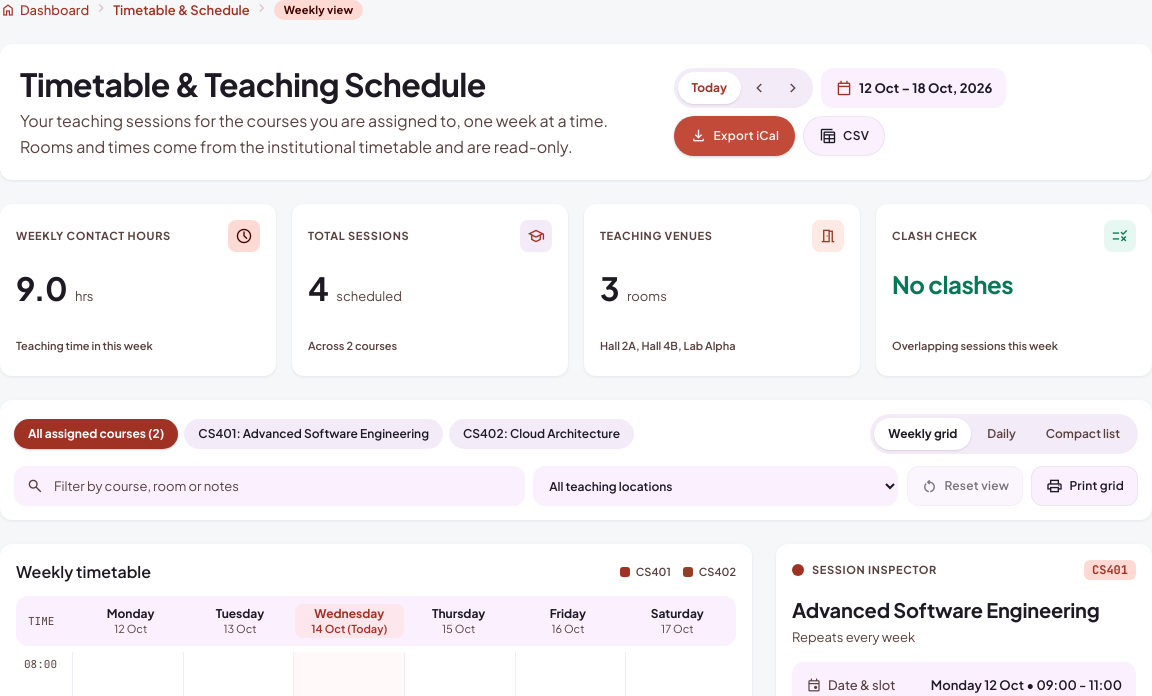
Test: timetable › filters by course, room and search, and resets
Click the button "CS402: Cloud Architecture" at (542, 434), box [449, 419, 634, 449]
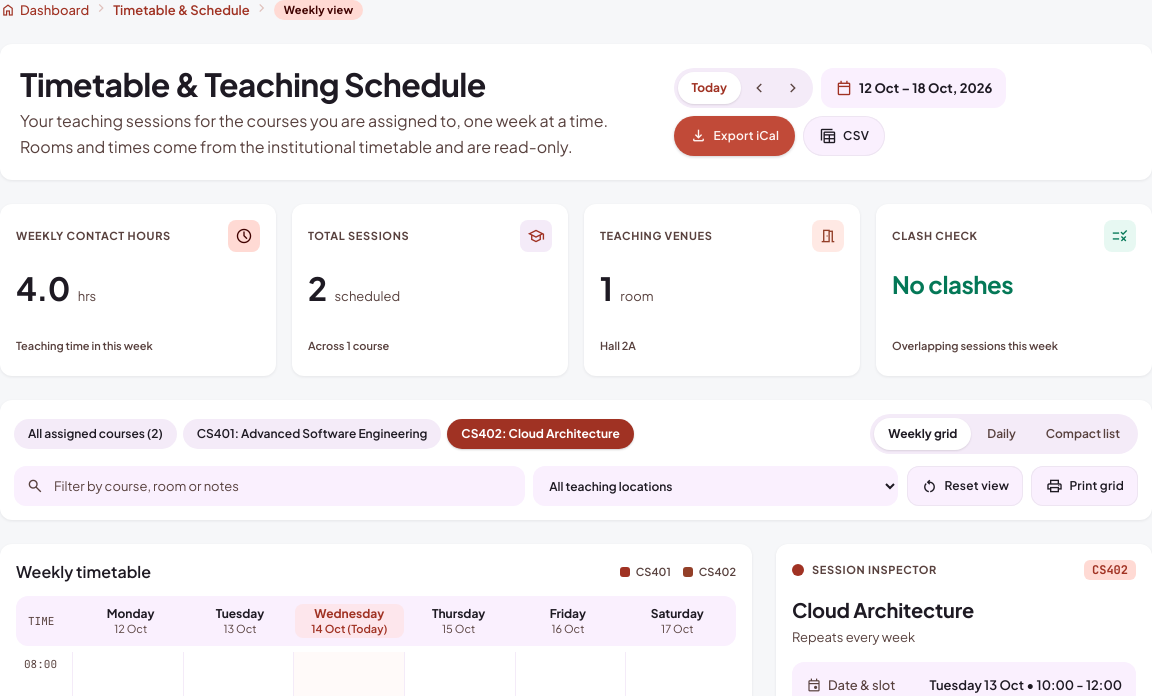
Click the button "Reset view" at (965, 486), box [906, 466, 1023, 506]
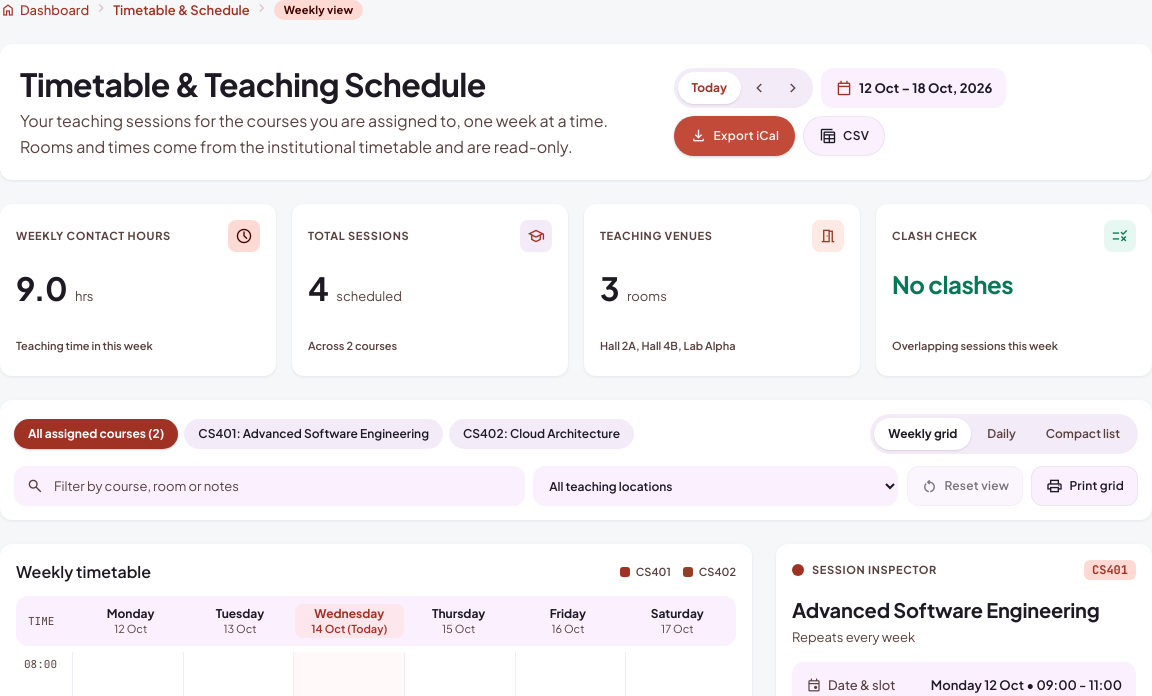
Select "Lab Alpha" in the dropdown named "Filter by room" at (716, 486), box [533, 466, 898, 506]
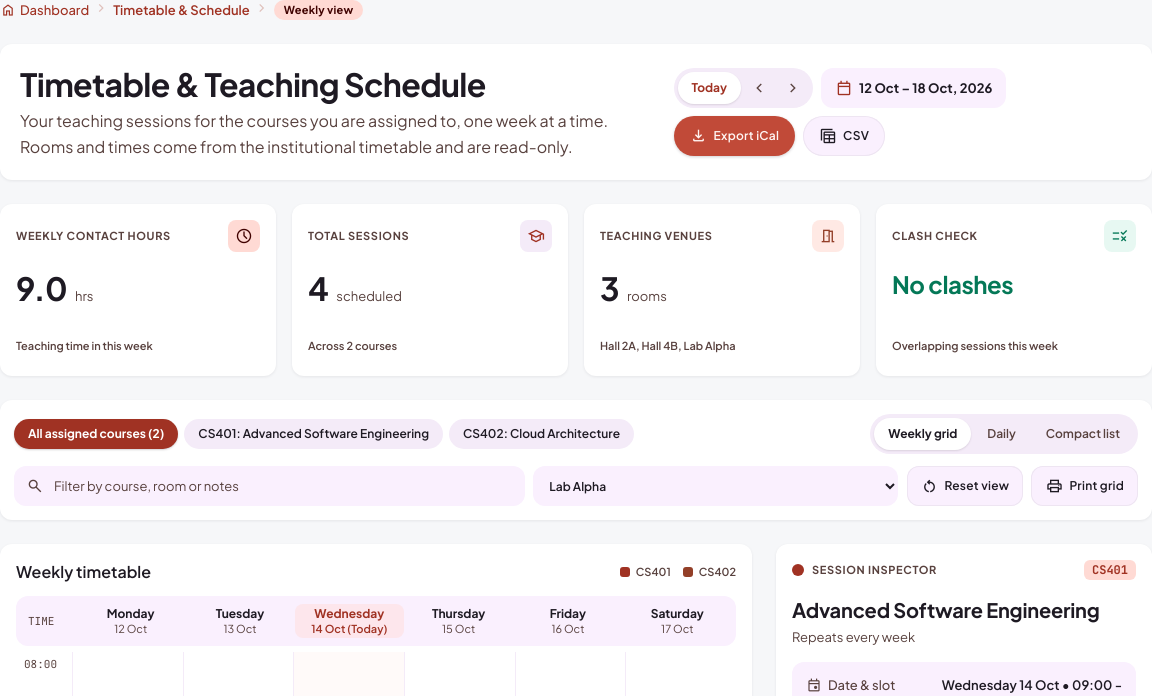
Click the button "Reset view" at (965, 486), box [906, 466, 1023, 506]
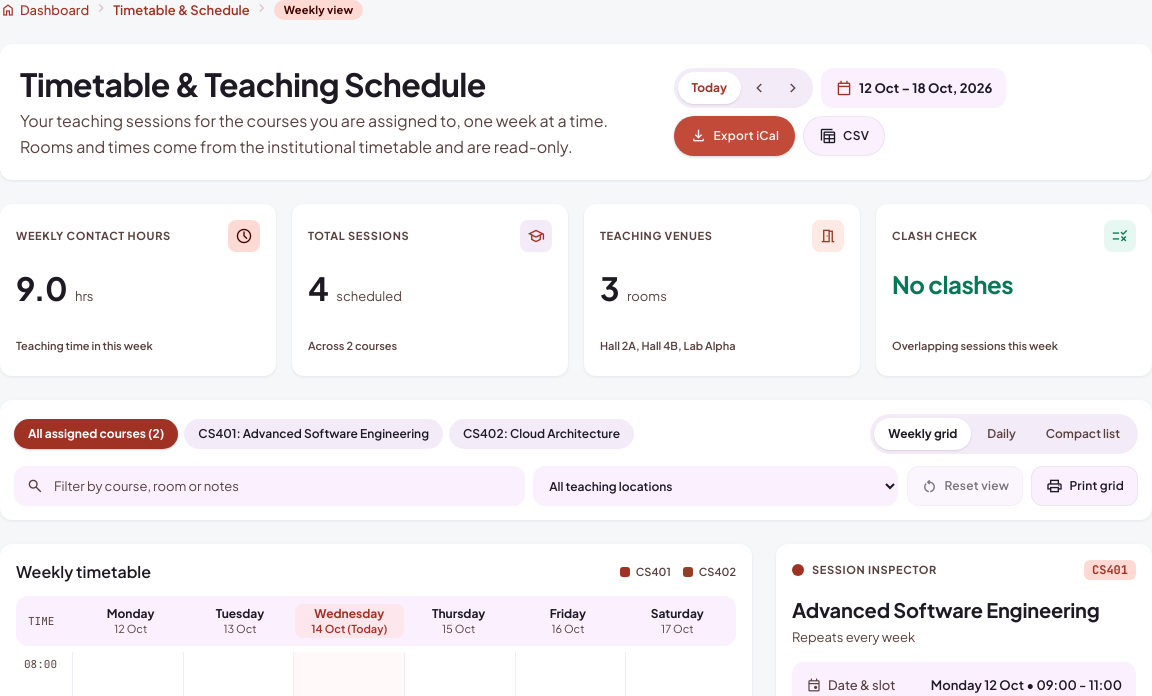
Type "zzz" into the search field named "Search sessions" at (283, 486), box [52, 477, 513, 495]
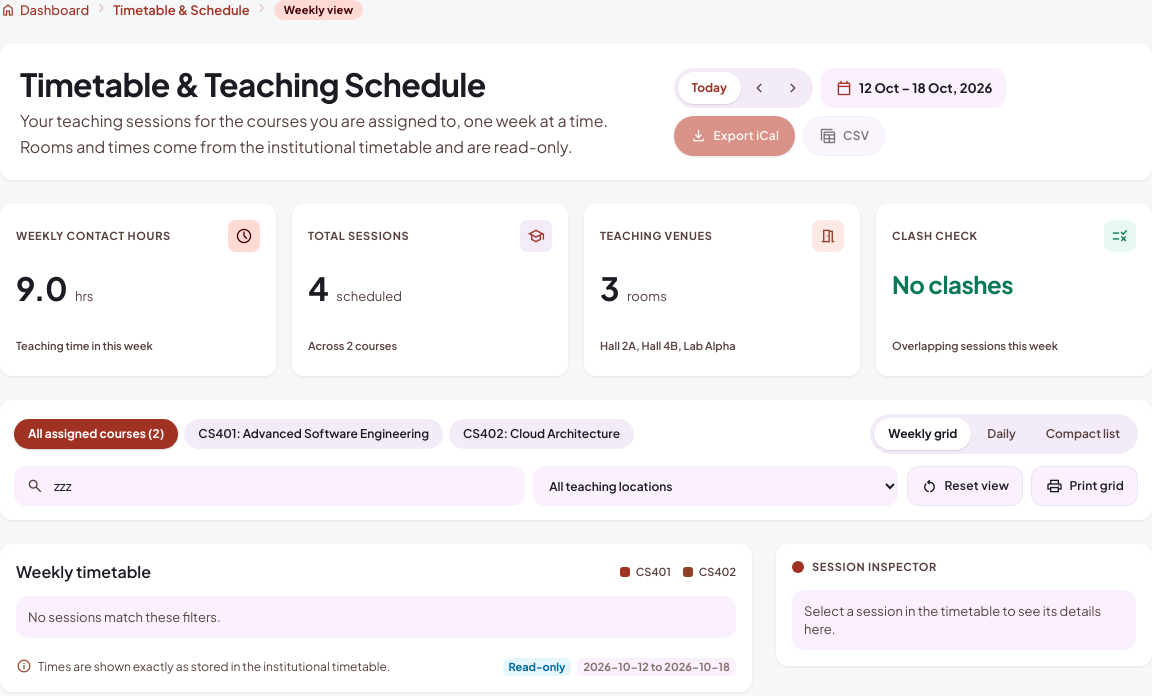
Expected: the text "No sessions match these filters." is shown, [16, 596, 736, 638]
Replace the text in the search field named "Search sessions" with "docker" at (283, 486), box [52, 477, 513, 495]
(page scrolled)
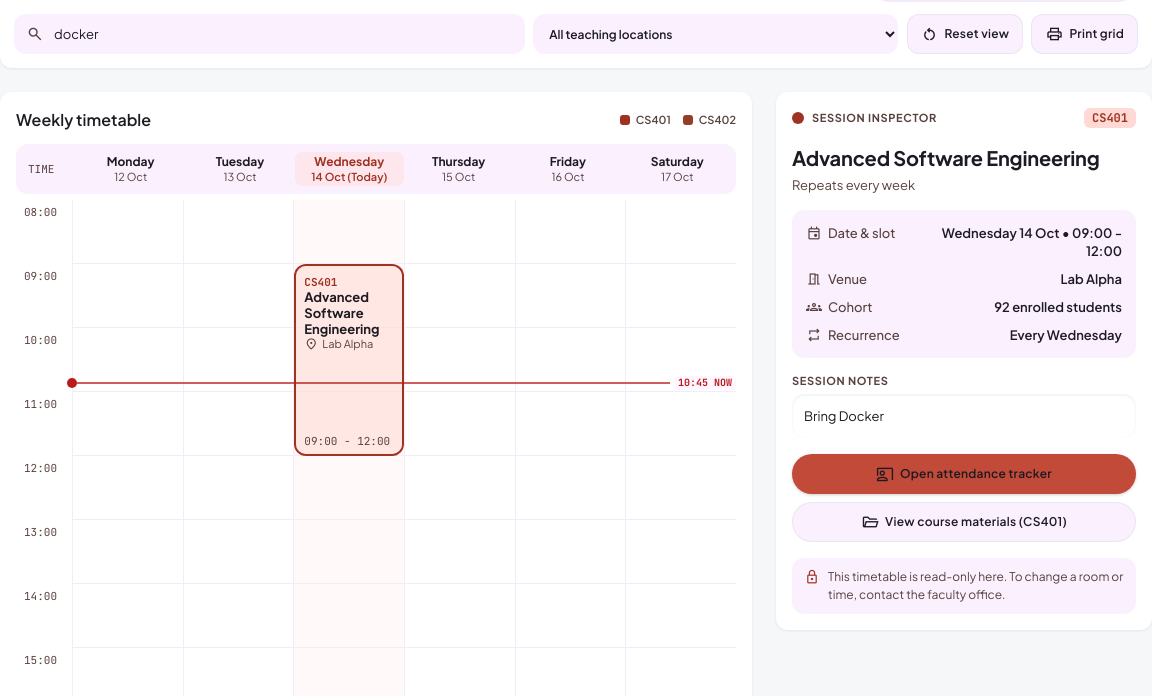
Expected: the button with aria-label "Wednesday 09:00" is shown, [296, 266, 402, 454]
